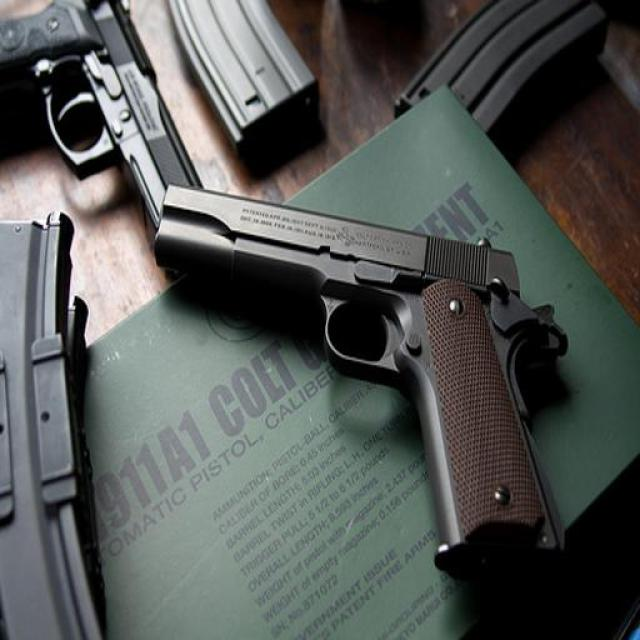pistol: (153, 177, 568, 576), (1, 3, 213, 260)
